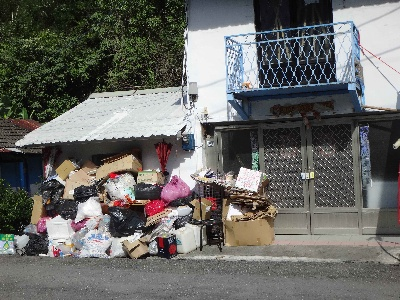box: (225, 215, 277, 248), (97, 153, 142, 177), (236, 168, 263, 193), (52, 157, 82, 179), (121, 238, 152, 259)
bucket: (156, 230, 179, 261)
plastic_bag: (100, 170, 138, 204), (77, 228, 114, 261), (107, 204, 144, 236), (161, 174, 193, 206), (40, 179, 65, 212), (134, 178, 163, 202), (71, 181, 97, 201)
